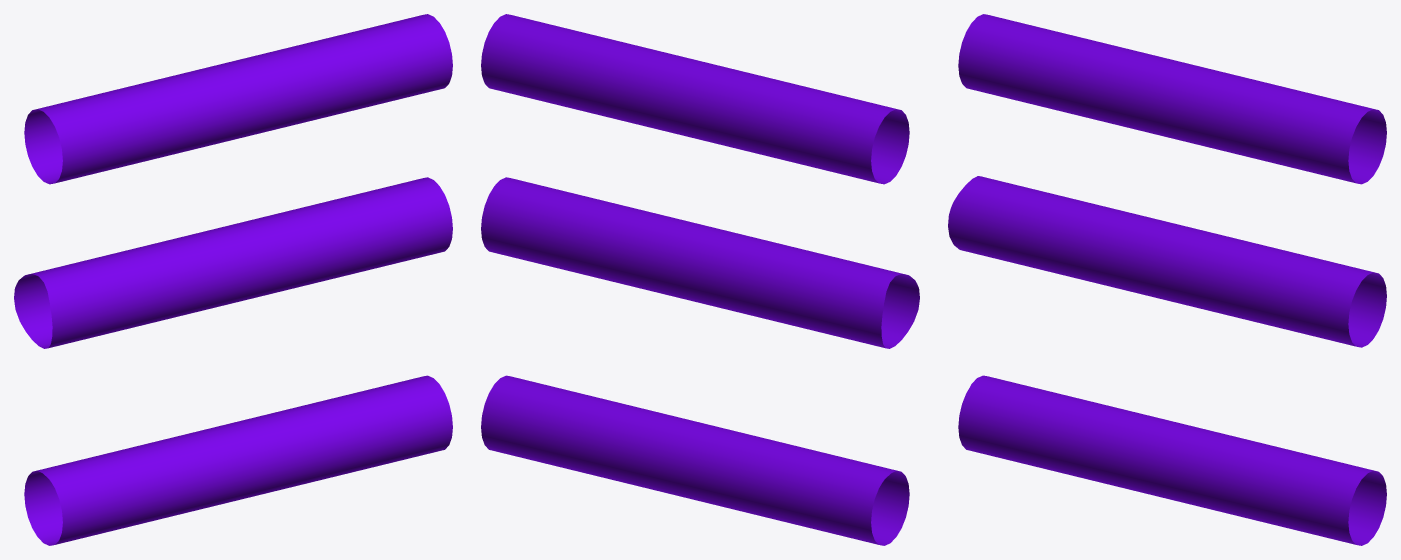
The model's file is Fence_Barrier2.fbx.
3 views of the same model, side by side, from view 1: azimuth 30°, elevation 25°; view 2: azimuth 150°, elevation 25°; view 3: azimuth 330°, elevation 25° (orthographic).
Parts seen in each view (by area): view 1: pCylinder119; view 2: pCylinder119; view 3: pCylinder119.
Boxes of the visible parts, x1,y1,x2,y2 form: pCylinder119: [14, 14, 452, 545]; pCylinder119: [481, 14, 919, 545]; pCylinder119: [948, 14, 1386, 545].
Bounding box in the file's own units: 21.56 × 22.2 × 3.6.
